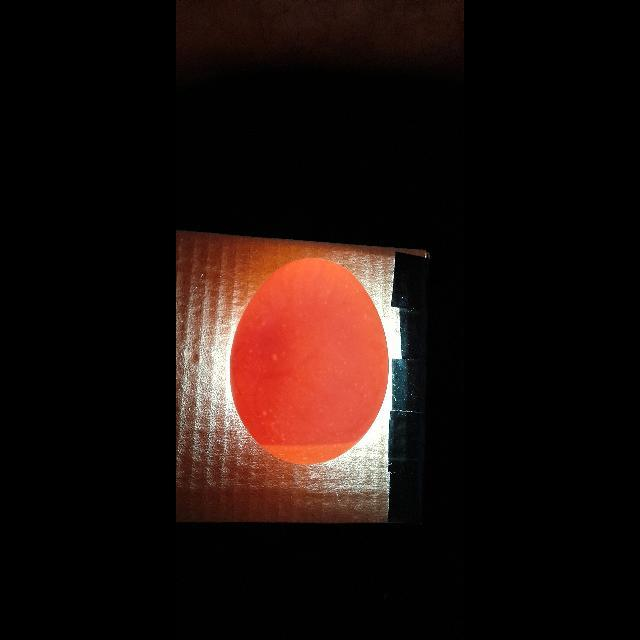Fertile: (233, 258, 389, 466)
